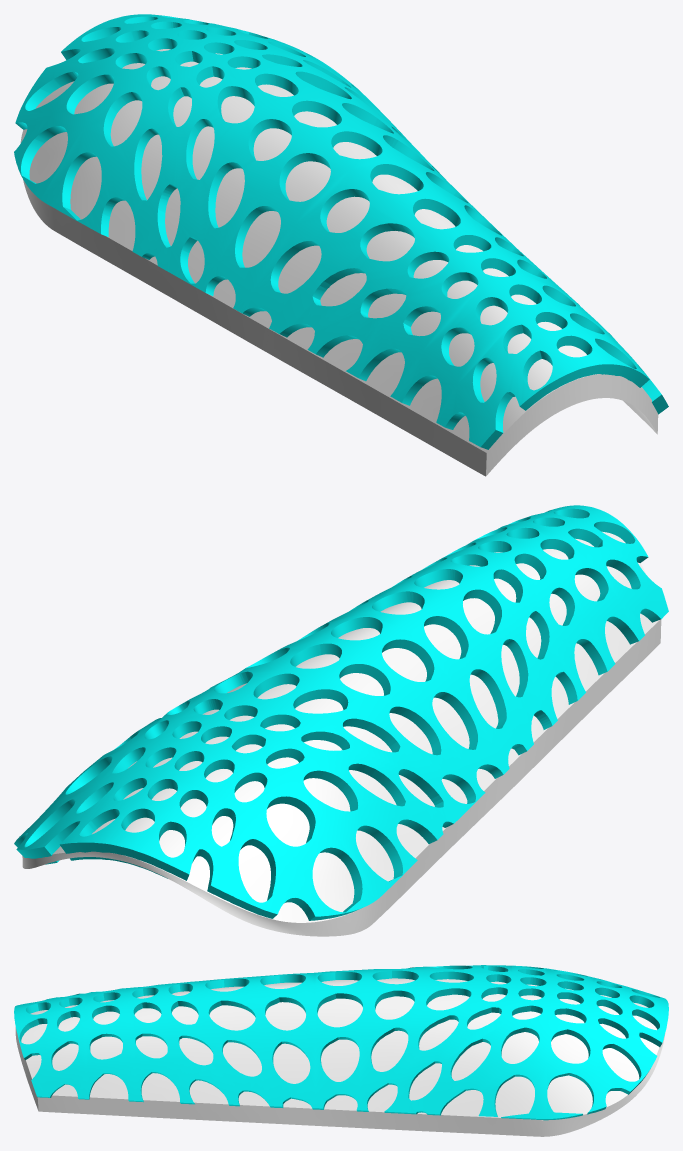
File: tessella-coffin-full.glb
3 views of the same model, one above another, from view 1: azimuth 30°, elevation 25°; view 2: azimuth 150°, elevation 25°; view 3: azimuth 270°, elevation 25° (orthographic). The views are drawn at different scales.
Parts seen in each view (by area): view 1: MW 1.0 1009172 US, object 1; view 2: MW 1.0 1009172 US, object 1; view 3: MW 1.0 1009172 US, object 1.
Part boxes in pixels (x1,y1,x2,y2): MW 1.0 1009172 US: (14,14,668,449); object 1: (20,49,658,476); MW 1.0 1009172 US: (14,505,668,920); object 1: (22,531,661,936); MW 1.0 1009172 US: (14,965,668,1120); object 1: (15,978,665,1136).
Size of the model in its own units: 0.0144 by 0.00638 by 0.0352.
